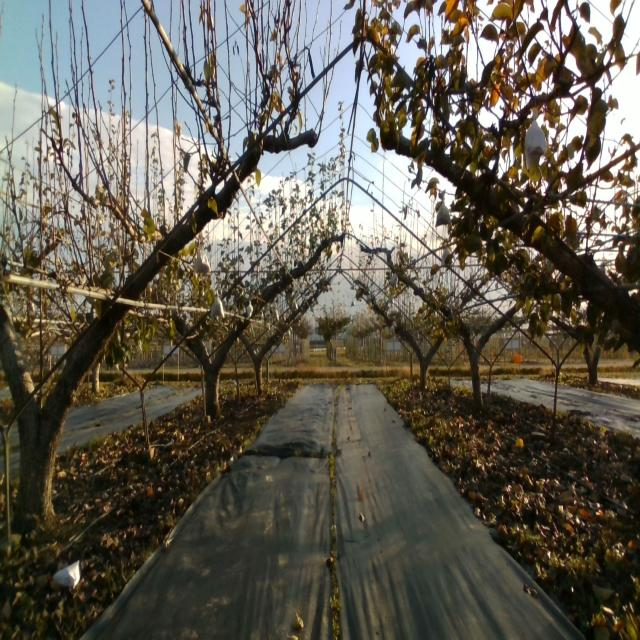pearbags: (523, 106, 547, 169), (435, 195, 452, 227), (194, 245, 211, 274), (210, 290, 225, 319), (441, 248, 452, 266)
